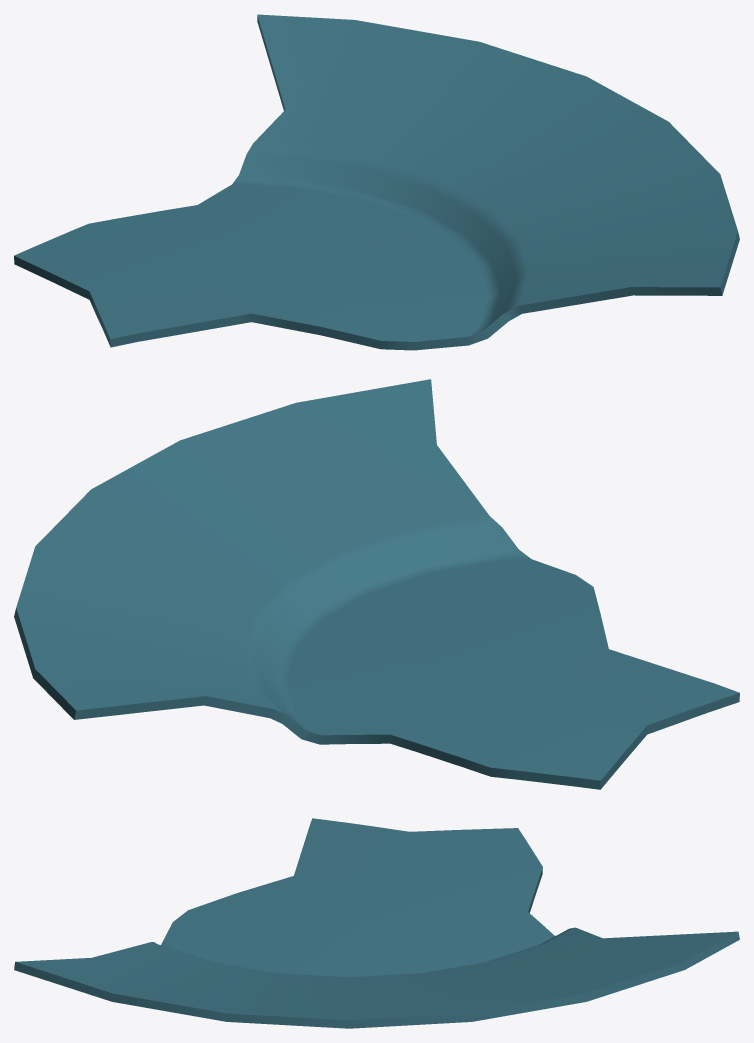
File: SM_SmallTrashkit_Plat3_001.fbx
3 renders of one model, top to bottom at view 1: azimuth 30°, elevation 25°; view 2: azimuth 150°, elevation 25°; view 3: azimuth 270°, elevation 25°, orthographic. The views are drawn at different scales.
Visible parts, largest first — view 1: SM_SmallTrashkit_Plat3_001; view 2: SM_SmallTrashkit_Plat3_001; view 3: SM_SmallTrashkit_Plat3_001.
Part boxes in pixels (x1=…): SM_SmallTrashkit_Plat3_001: x1=14, y1=14, x2=739, y2=350; SM_SmallTrashkit_Plat3_001: x1=14, y1=379, x2=739, y2=789; SM_SmallTrashkit_Plat3_001: x1=14, y1=818, x2=739, y2=1028.
Bounding box in the file's own units: 27.91 × 3.41 × 33.05.
